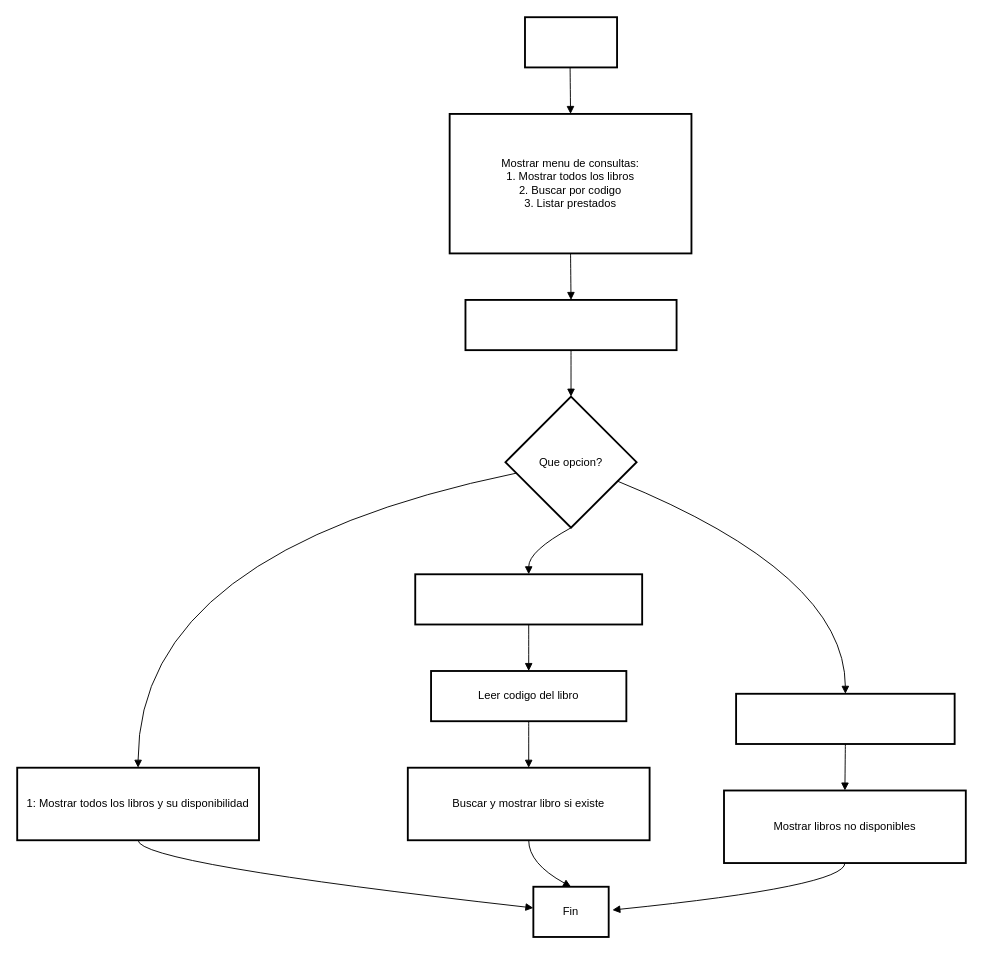
Some shapes in this 982 by 953 pixel diagram are drawn without their labels. The centre of each missing label's shape, as x and y in pixels:
"2: Buscar libro por codigo" goes at (528,599).
"3: Listar libros prestados" goes at (845,718).
"Inicio" goes at (571,42).
"Leer opcion del usuario" goes at (570,325).
